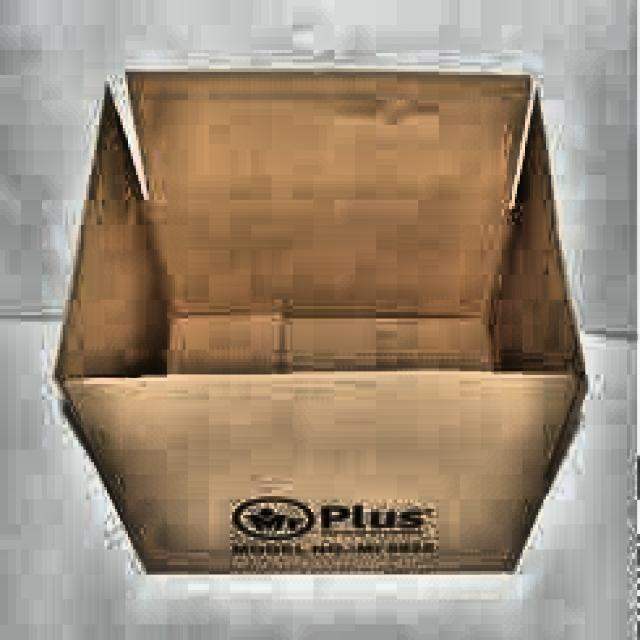cardboard: (52, 66, 588, 574)
